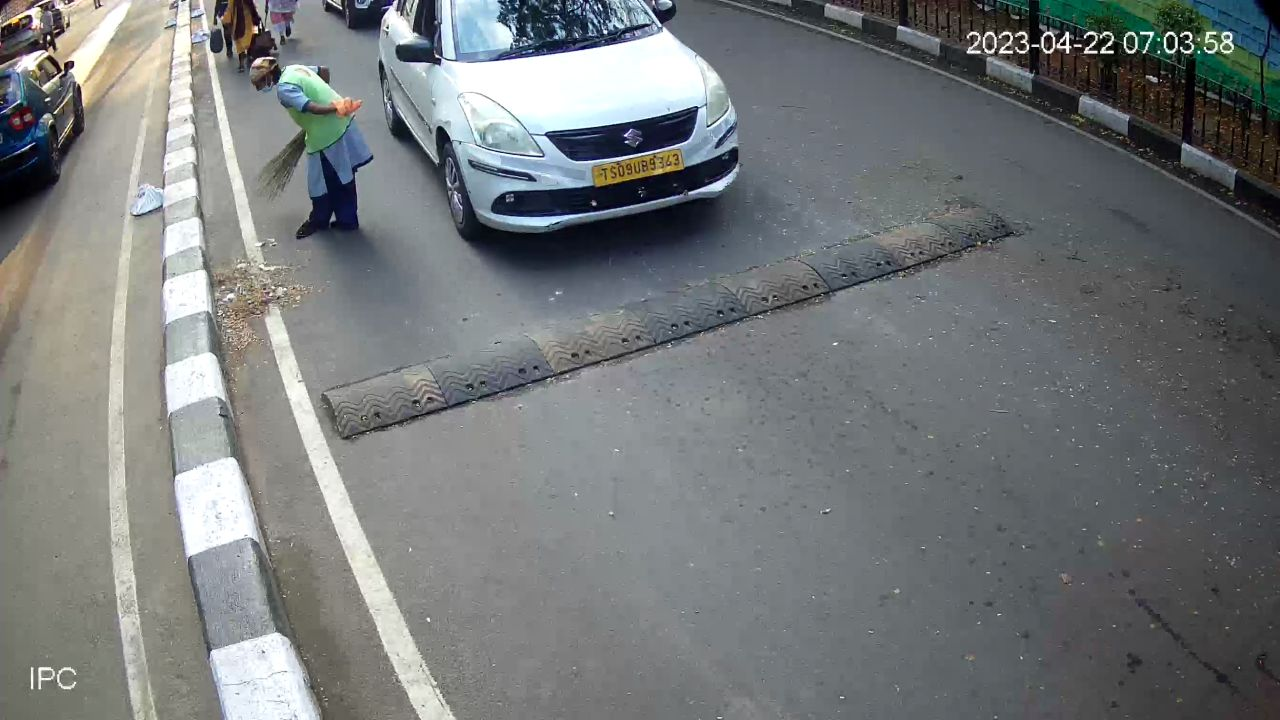license_plate: (586, 139, 689, 192)
